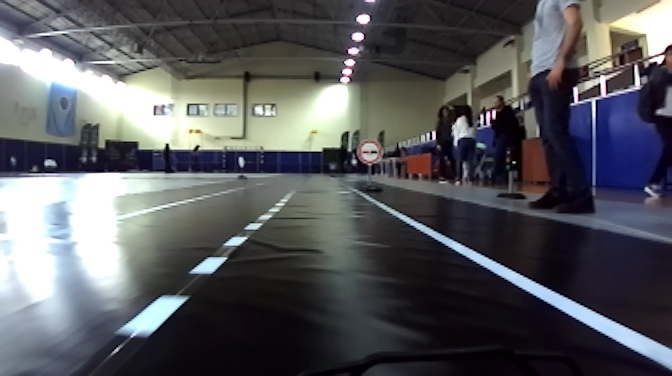sollama_yasak: (354, 138, 383, 165)
